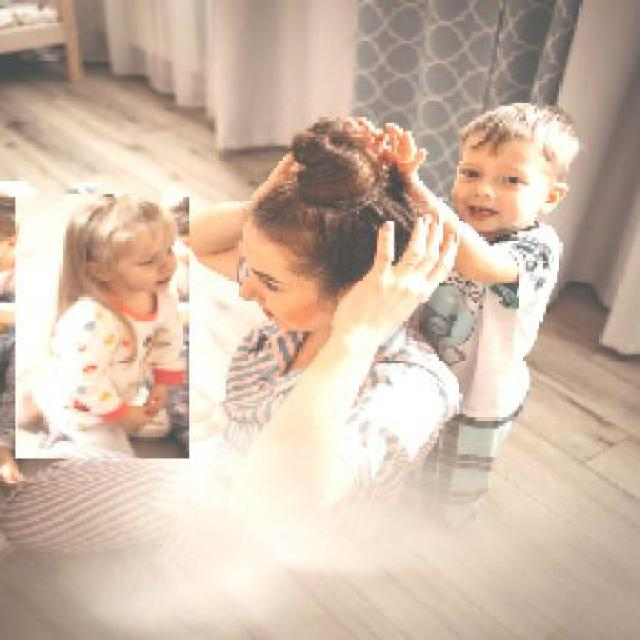child: (347, 101, 582, 518), (14, 194, 189, 460)
